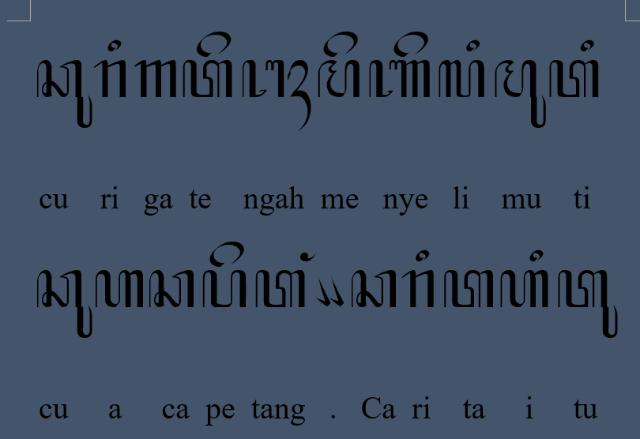_h1: (286, 58, 312, 132)
c: (350, 268, 398, 310), (148, 269, 196, 309)
cu: (36, 59, 94, 129), (35, 269, 93, 339)
e: (321, 29, 359, 58), (209, 240, 245, 270), (196, 29, 232, 58), (394, 30, 431, 57)
g: (134, 59, 178, 99)
h: (500, 268, 550, 310)
i: (578, 39, 596, 54), (413, 249, 431, 262), (107, 39, 121, 54), (528, 249, 544, 262), (466, 38, 480, 52)
kom: (314, 274, 332, 308), (328, 274, 344, 306)
l: (437, 57, 487, 98)
m: (316, 58, 360, 100)
mu: (494, 58, 548, 130)
ng: (298, 251, 318, 265)
nga: (242, 58, 286, 100)
ny1: (367, 57, 433, 101)
p: (202, 270, 246, 310)
r: (401, 269, 435, 311), (93, 59, 127, 99)
t: (255, 268, 308, 310), (182, 58, 234, 100), (547, 58, 599, 100), (442, 268, 496, 308), (93, 270, 145, 308)
tu: (556, 268, 620, 340)
